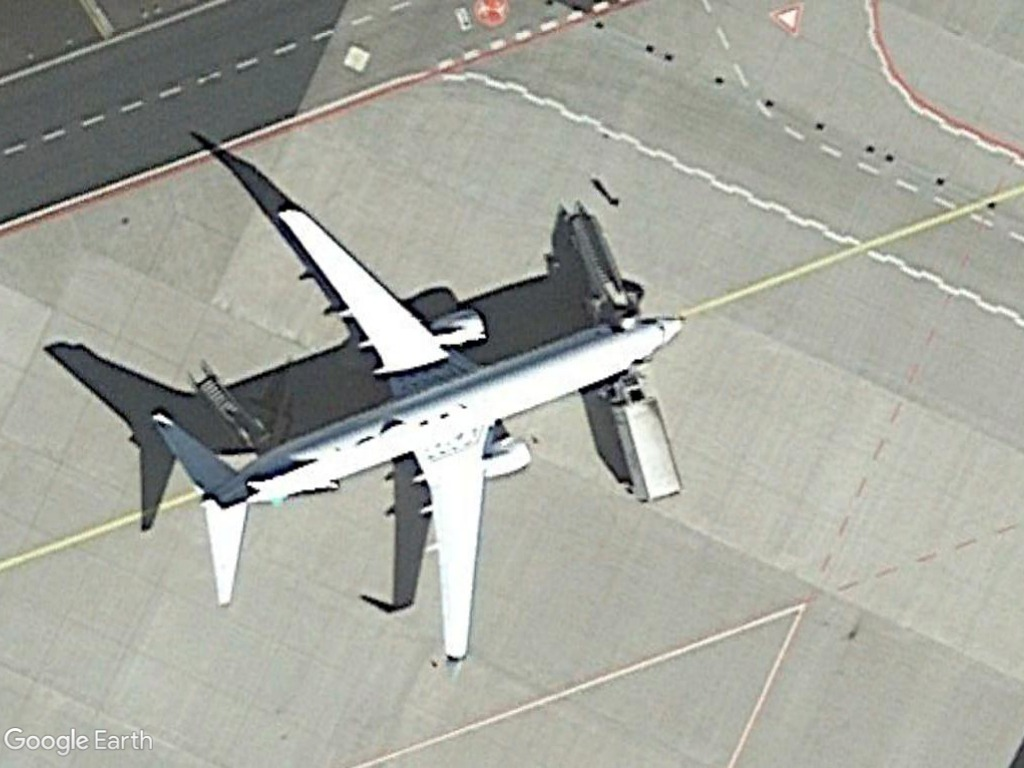airliner: (138, 191, 714, 673)
